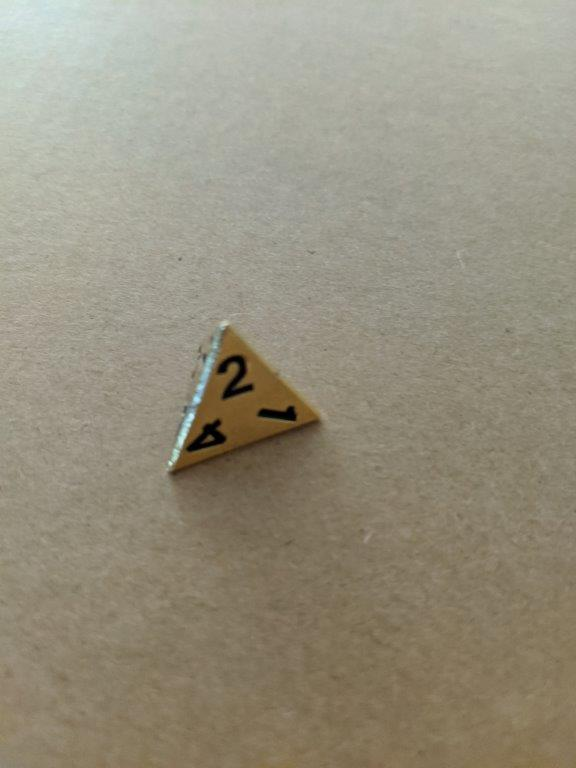d4-2: (158, 321, 322, 479)
